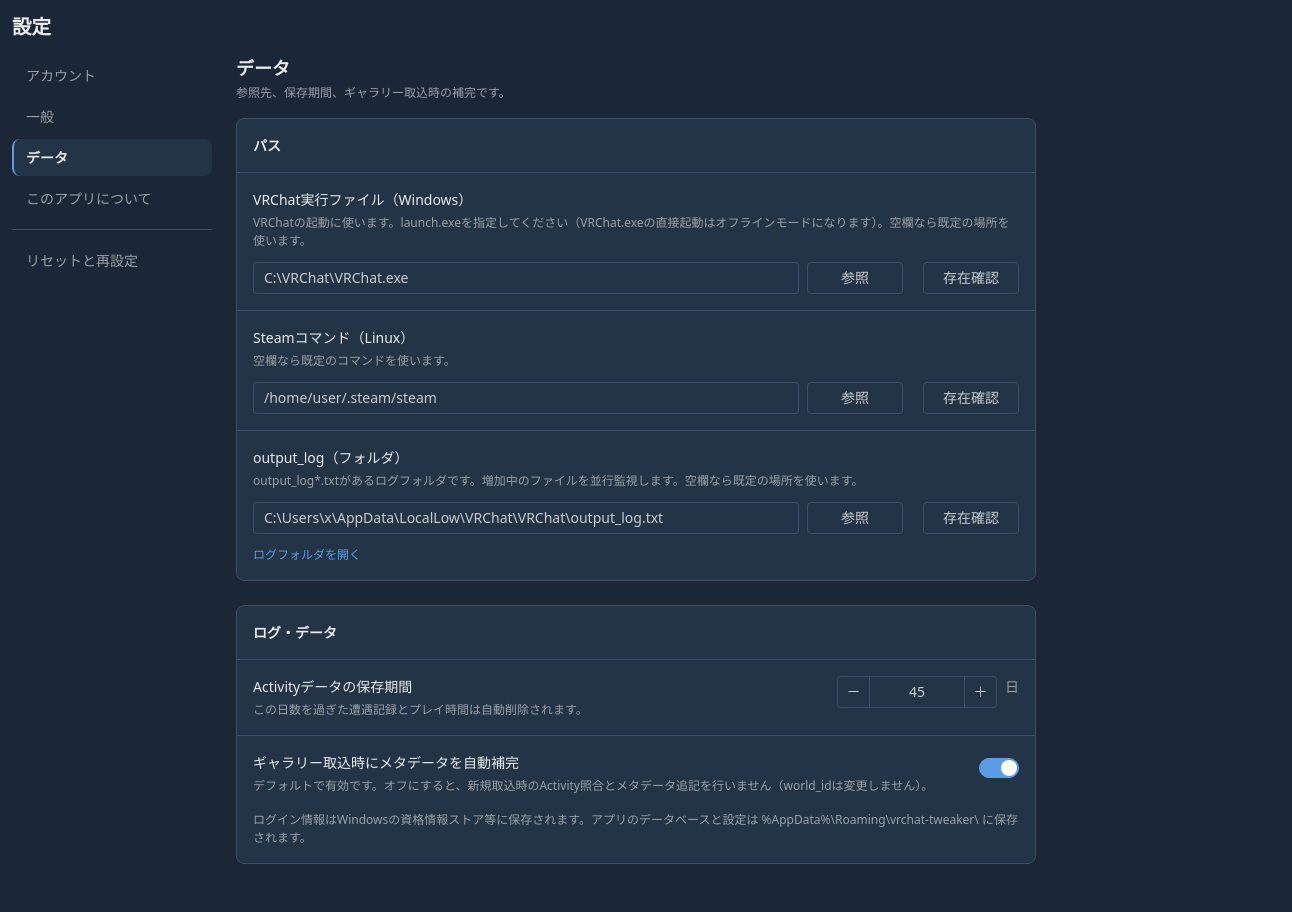
Test case: SettingsView › validates executable paths with App.validatePath
Click the 1st button "存在確認". click: (971, 278)
box: [923, 262, 1019, 294]
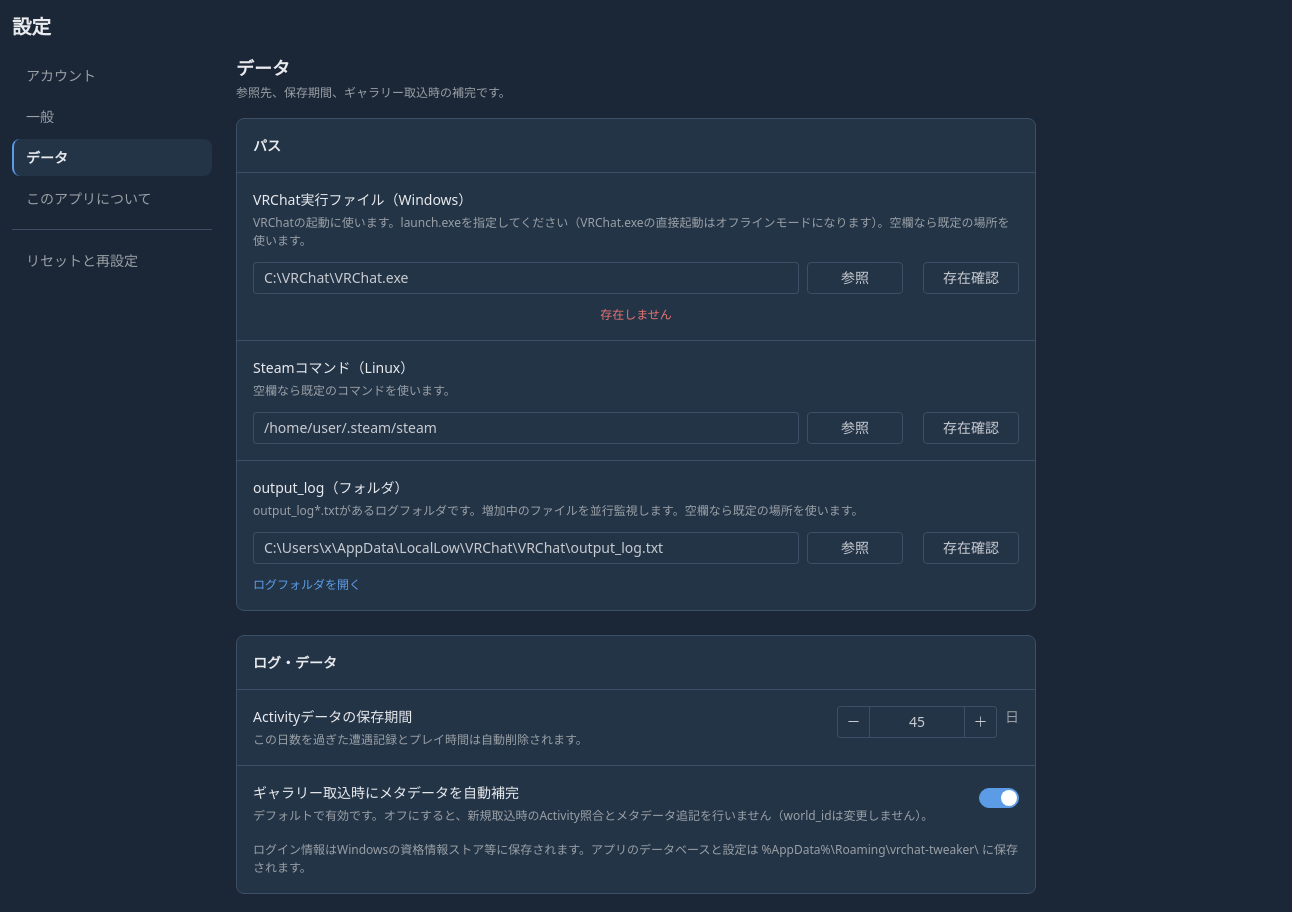
Expected: the text "存在しません" is shown, [600, 306, 672, 324]
